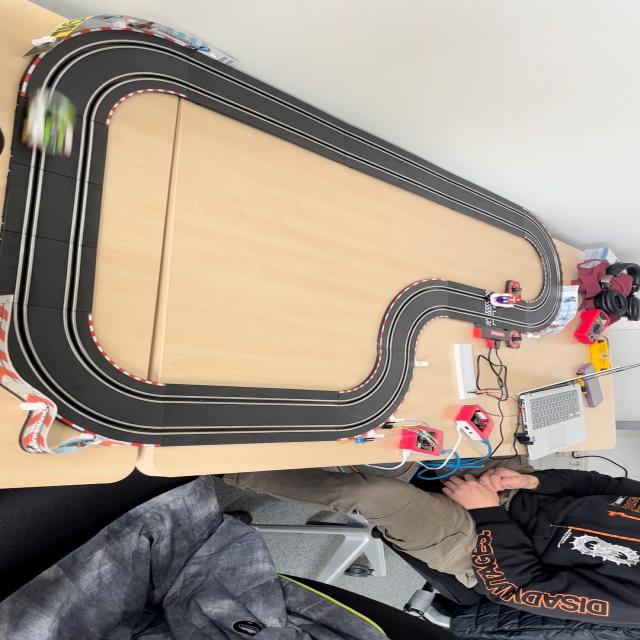mario: (488, 292, 524, 309)
yoshi: (20, 88, 85, 160)
